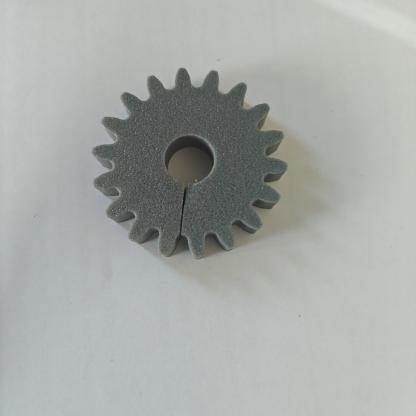defect: (144, 178, 240, 252)
gear: (78, 58, 301, 277)
